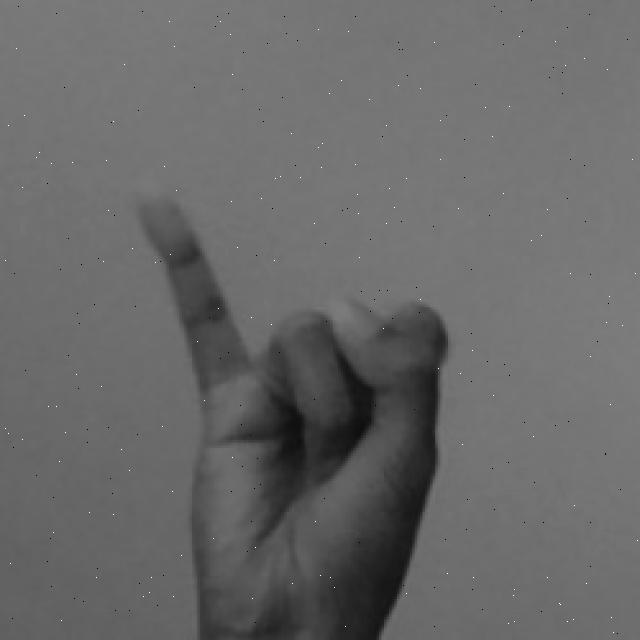I: (137, 187, 462, 640)
